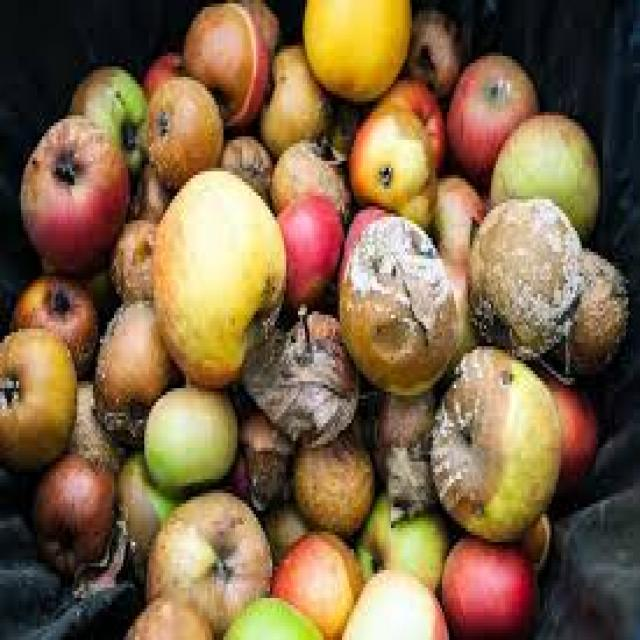organic waste: (147, 161, 284, 388), (426, 342, 558, 538), (335, 200, 459, 388), (142, 483, 270, 633), (466, 192, 580, 360), (14, 108, 128, 273), (486, 108, 596, 238), (88, 294, 182, 437), (237, 329, 347, 444), (442, 49, 535, 182), (272, 297, 356, 441), (0, 325, 77, 472), (356, 378, 440, 510), (140, 381, 237, 493), (300, 0, 410, 98), (347, 105, 433, 227), (265, 528, 361, 637), (440, 528, 535, 637), (352, 482, 449, 588), (28, 451, 114, 567), (433, 171, 484, 364), (112, 444, 186, 577), (533, 356, 596, 504), (140, 74, 223, 185), (291, 426, 372, 538), (272, 189, 344, 315), (556, 238, 626, 364), (65, 59, 144, 168), (182, 0, 249, 119), (338, 563, 444, 637), (221, 0, 282, 126), (256, 42, 328, 147), (16, 280, 96, 374), (372, 74, 444, 178), (268, 136, 344, 217), (65, 374, 126, 472), (405, 7, 463, 94), (221, 588, 321, 636), (119, 591, 214, 637), (70, 514, 128, 588), (105, 217, 156, 301), (221, 133, 270, 199), (124, 157, 168, 217), (142, 49, 181, 94), (321, 98, 352, 150), (522, 511, 550, 566)
